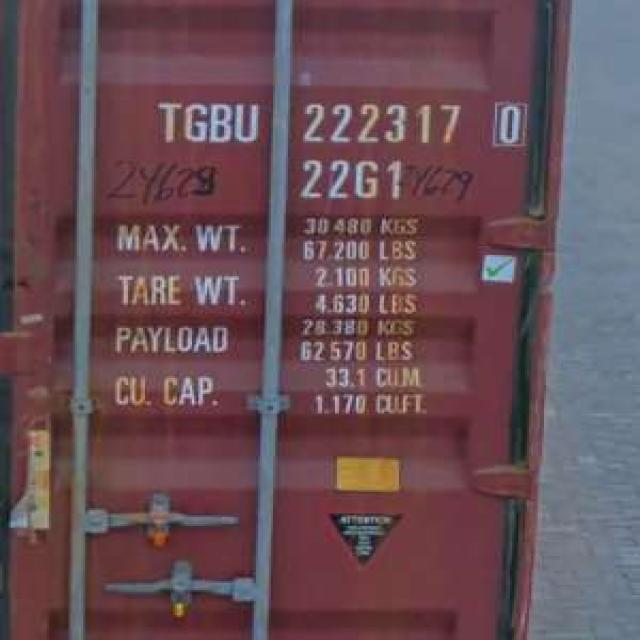dv: (487, 95, 535, 153)
owner: (155, 92, 267, 152)
serial: (293, 98, 476, 150)
size: (292, 155, 407, 209)
